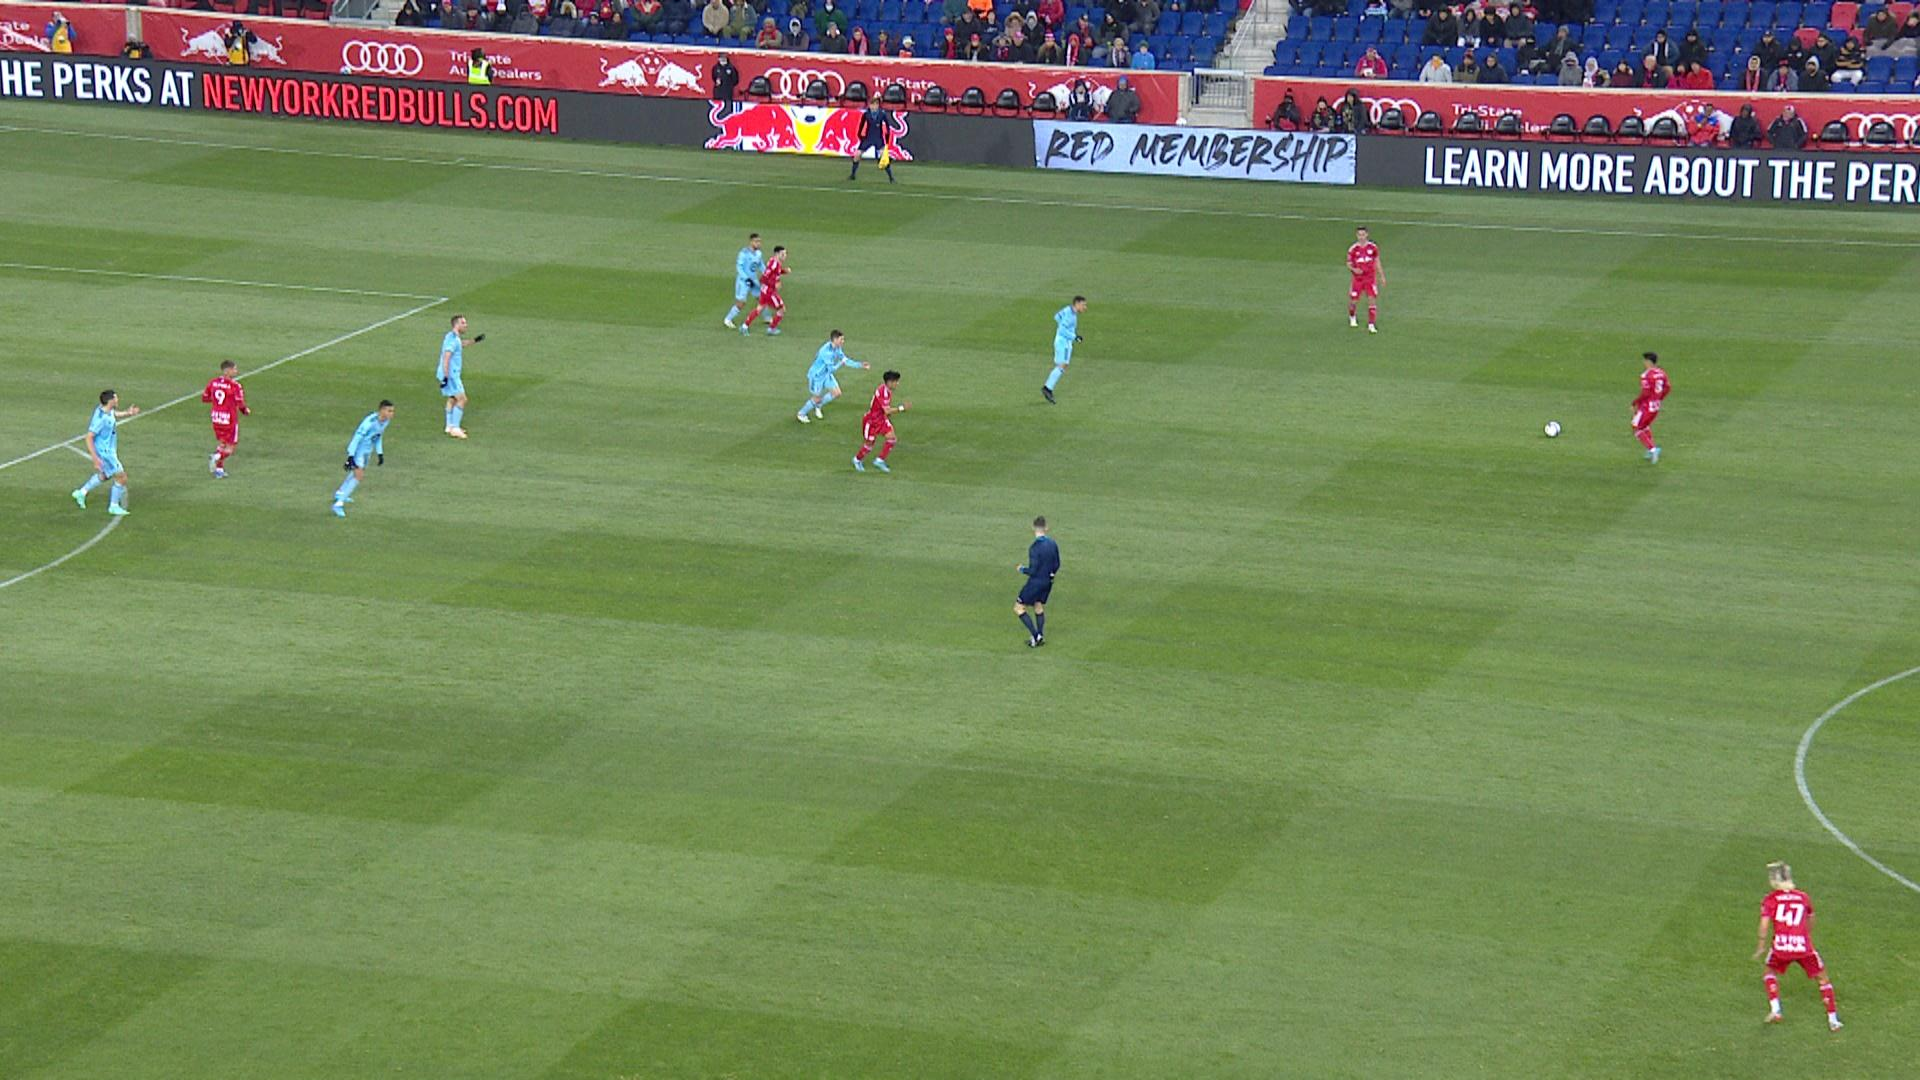football: (1544, 419, 1561, 438)
